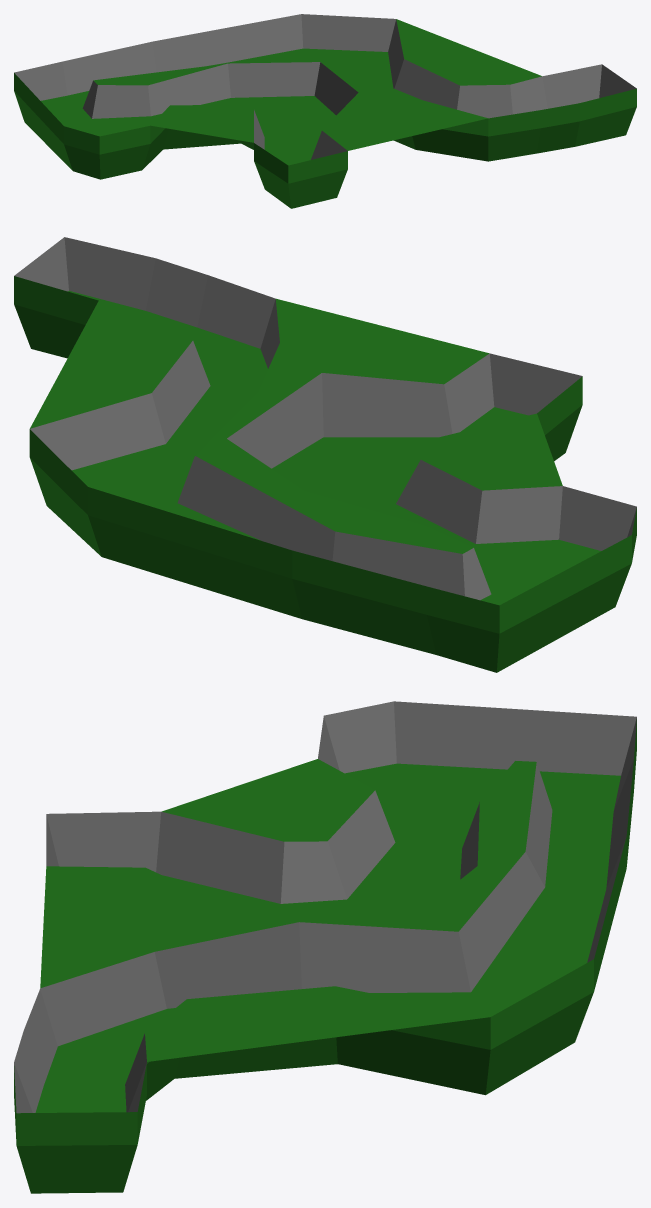
Rendered from Level1.fbx.
The picture shows the model from 3 angles, top to bottom: view 1: azimuth 30°, elevation 25°; view 2: azimuth 150°, elevation 25°; view 3: azimuth 270°, elevation 25°; orthographic projection. The views are drawn at different scales.
Visible parts, largest first — view 1: Cube; view 2: Cube; view 3: Cube.
Part boxes in pixels (x1,y1,x2,y2): Cube: (14,14,636,208); Cube: (14,237,636,672); Cube: (14,701,636,1193).
Bounding box in the file's own units: 37270 × 4303 × 23828.
